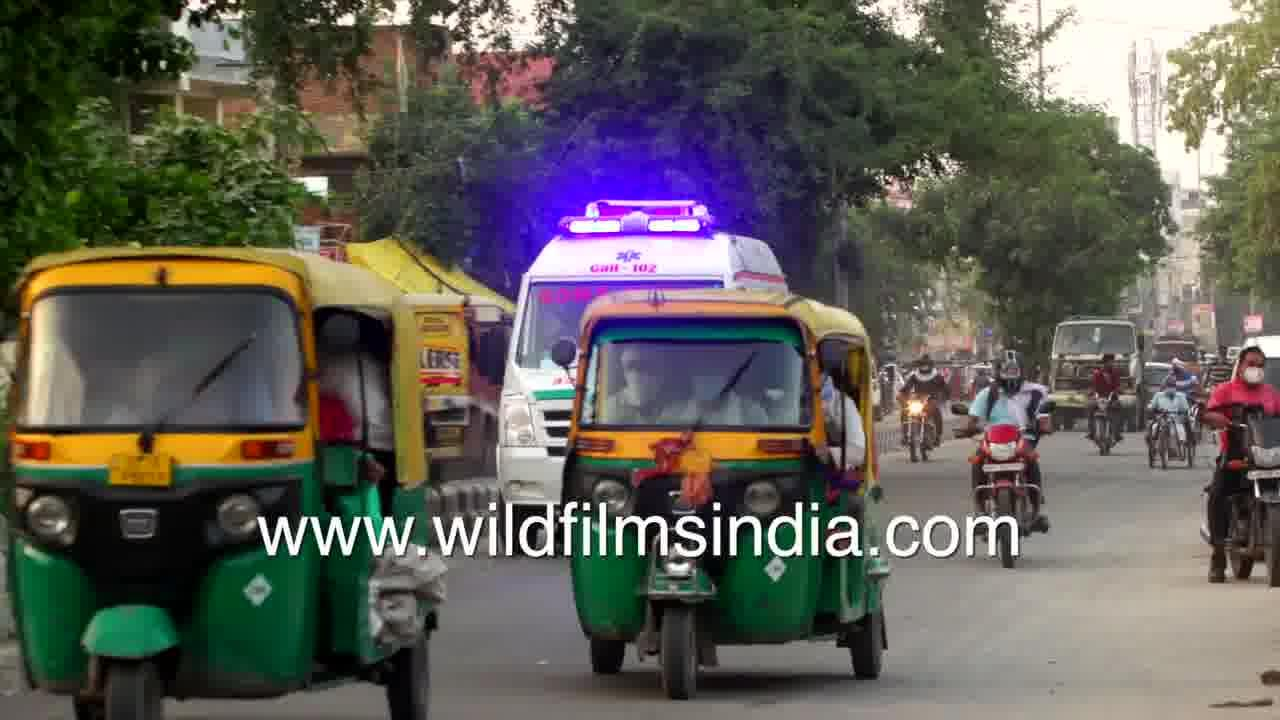AMBULANCE: (495, 199, 790, 290)
